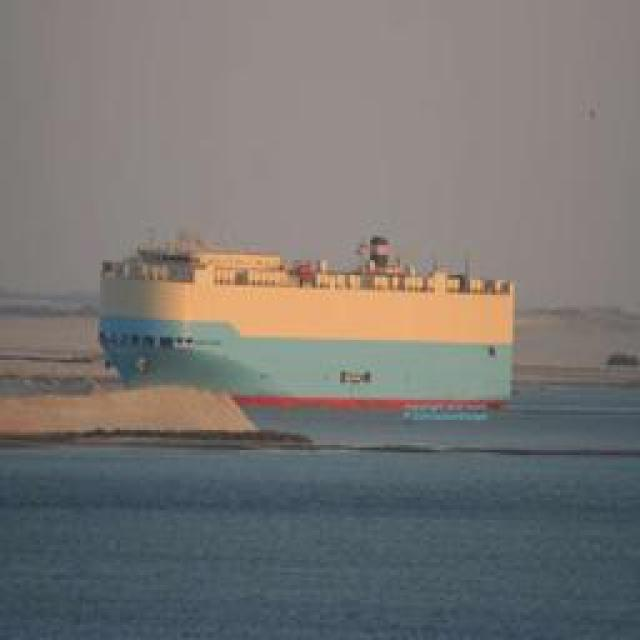CIV_Ship: (102, 238, 512, 404)
